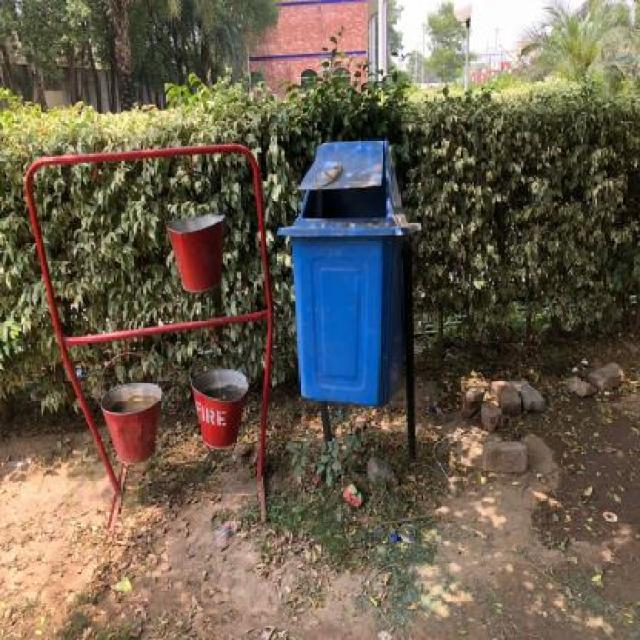garbage: (340, 476, 366, 510), (600, 506, 624, 532), (388, 523, 399, 552), (428, 402, 440, 415)
